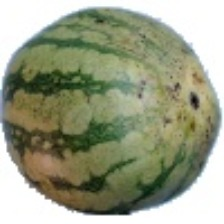watermelon: (12, 53, 212, 201)
